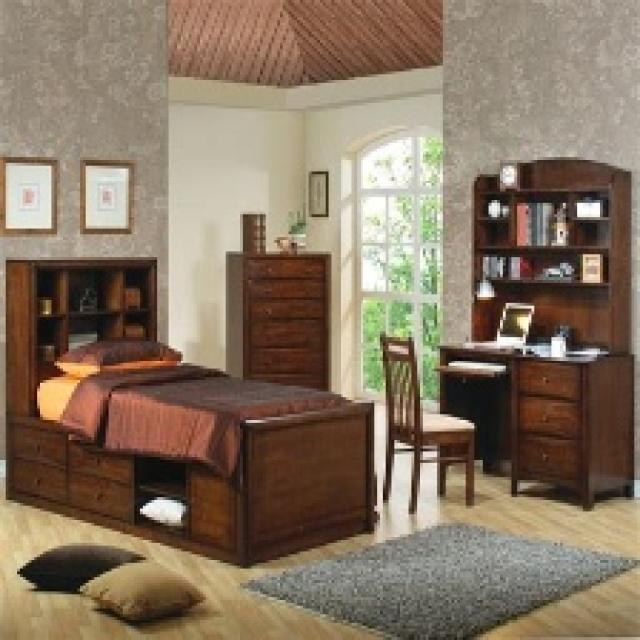Bed: (3, 257, 377, 566)
